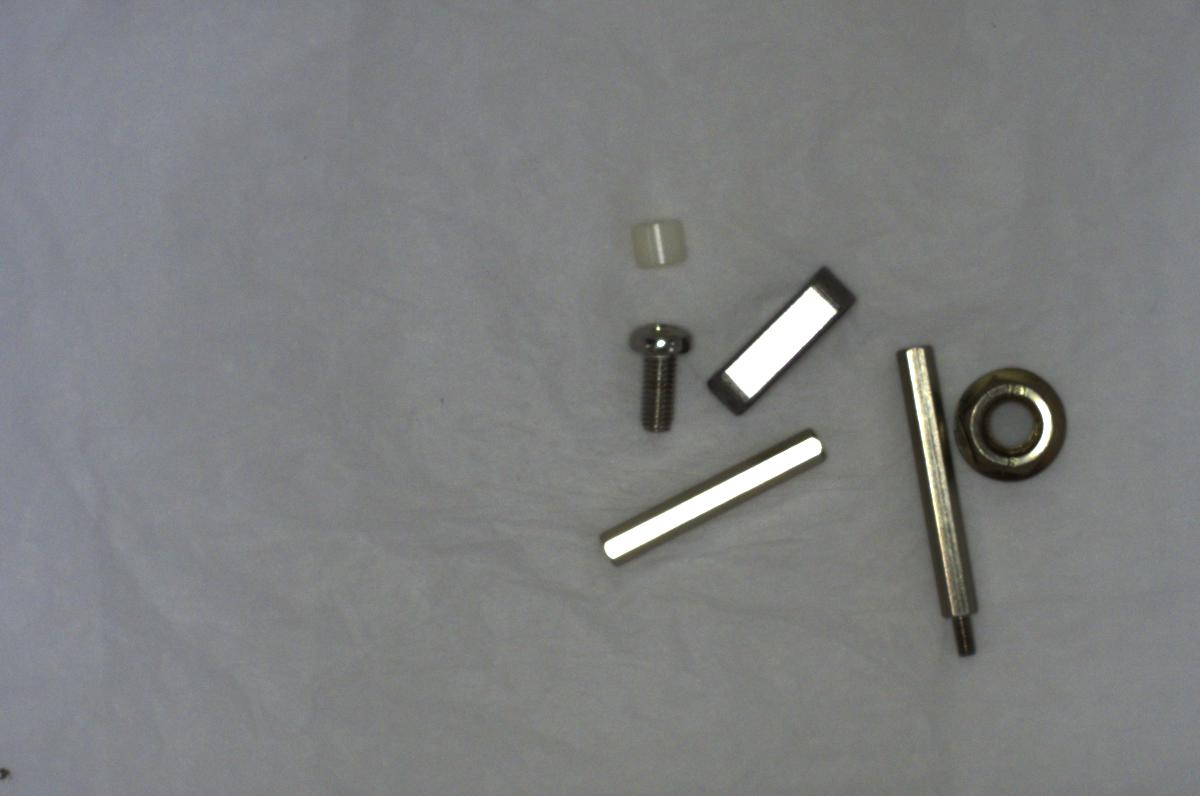Double hexagonal column: (593, 419, 830, 573)
Flange nut: (950, 349, 1071, 494)
Hexagonal steel column: (892, 337, 997, 658)
Keybar: (705, 256, 860, 408)
Plastic cushion pillar: (621, 210, 696, 277)
Round head screw: (629, 317, 697, 433)
